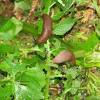slug: (37, 12, 51, 45), (53, 50, 74, 67)
